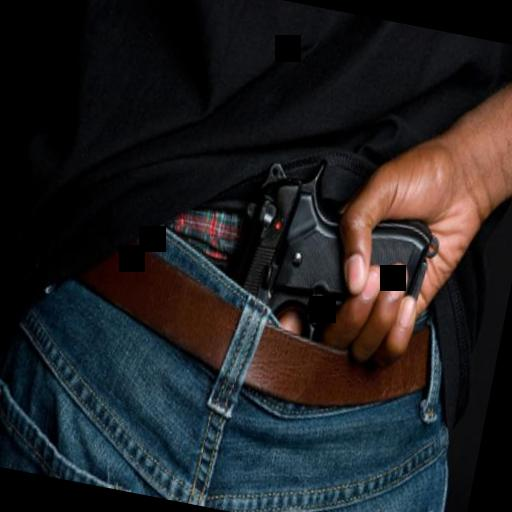Handgun: (204, 144, 452, 424)
